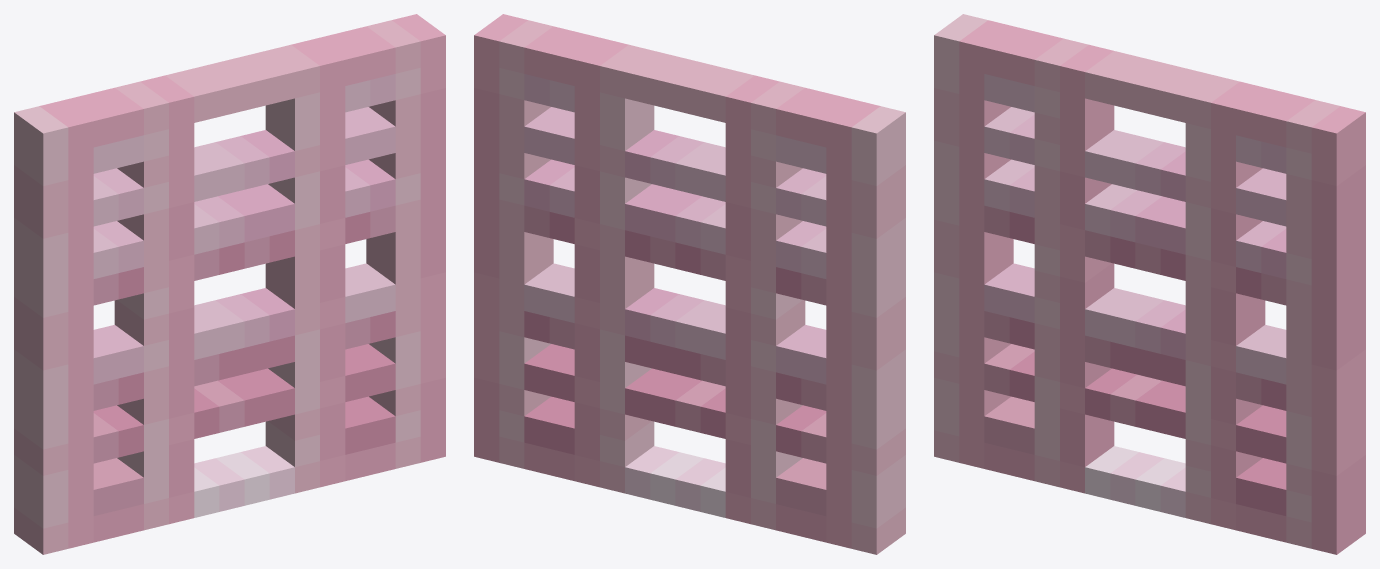
The model's file is Cherry Trapdoor.glb.
3 renders of one model, left to right at view 1: azimuth 30°, elevation 25°; view 2: azimuth 150°, elevation 25°; view 3: azimuth 330°, elevation 25°, orthographic.
Parts seen in each view (by area): view 1: generated(Clone).001; view 2: generated(Clone).001; view 3: generated(Clone).001.
Boxes of the visible parts, box(x1,y1,x2,y2) form: generated(Clone).001: box(14, 14, 445, 554); generated(Clone).001: box(474, 14, 905, 554); generated(Clone).001: box(934, 14, 1365, 554).
Size of the model in its own units: 8 by 8 by 1.
Materials: 1 (1 with a texture image).
